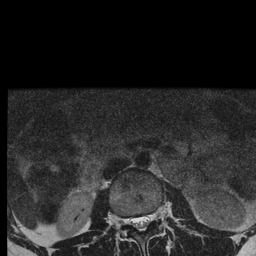CCS_stenosis: (137, 208, 144, 238)
LFS_normal: (152, 202, 160, 228)
LLS_normal: (144, 205, 152, 234)
RFS_normal: (121, 207, 129, 233)
RLS_normal: (128, 208, 137, 233)
